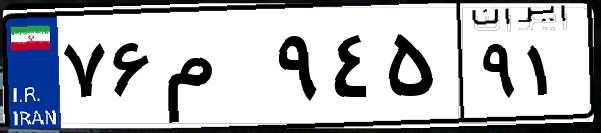1: (525, 38, 570, 115)
4: (330, 28, 385, 110)
5: (385, 28, 445, 110)
6: (110, 28, 158, 98)
7: (57, 26, 110, 100)
9: (270, 28, 330, 110), (475, 38, 525, 113)
م: (158, 20, 270, 120)
